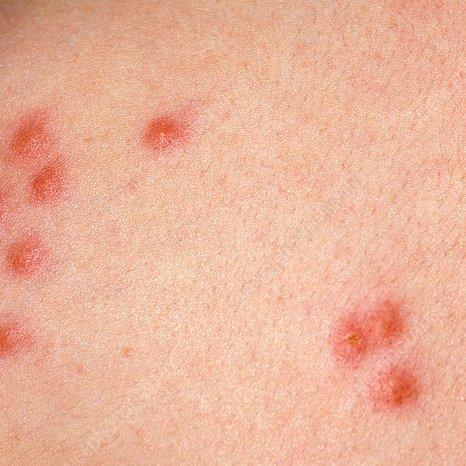Fleas: (320, 288, 417, 371), (136, 108, 198, 161), (0, 229, 53, 284), (7, 114, 56, 168), (373, 365, 420, 409), (26, 158, 69, 204), (0, 307, 34, 358)
